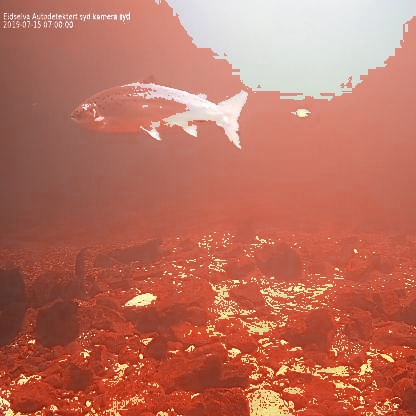salmon: (67, 72, 251, 153)
